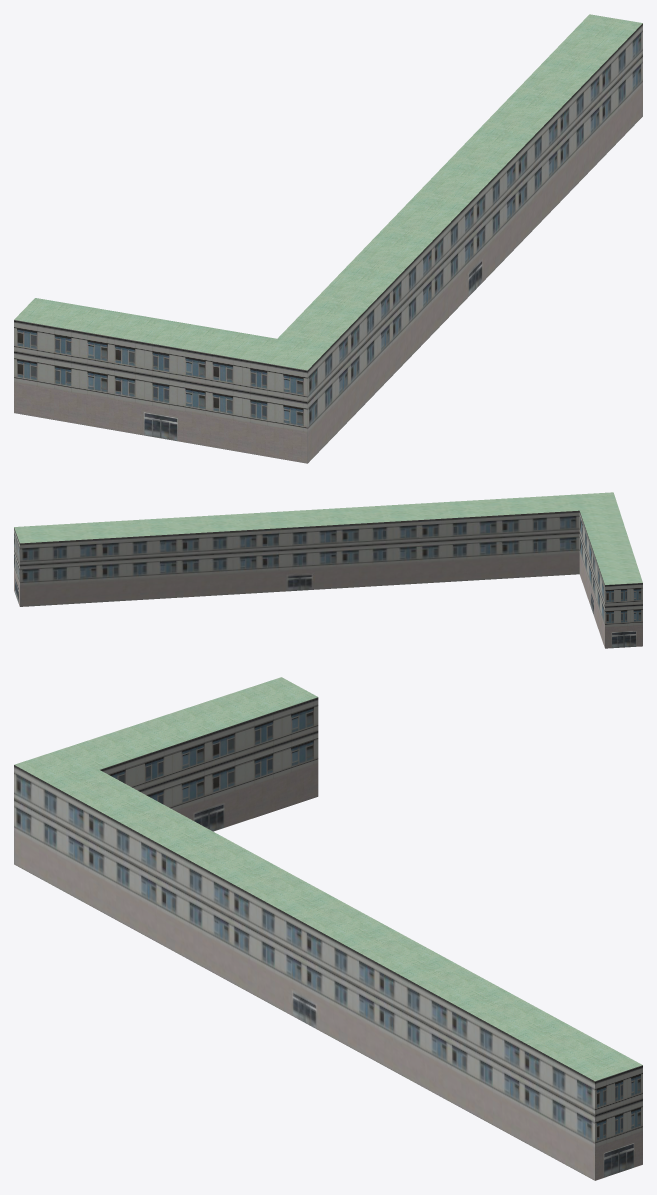
3 renders of one model, top to bottom at view 1: azimuth 30°, elevation 25°; view 2: azimuth 150°, elevation 25°; view 3: azimuth 270°, elevation 25°, orthographic. The views are drawn at different scales.
Visible parts, largest first — view 1: BuildingMaster_2001193661944463245600000000_0, BuildingMaster_2001193661944463245600000000_1; view 2: BuildingMaster_2001193661944463245600000000_0, BuildingMaster_2001193661944463245600000000_1; view 3: BuildingMaster_2001193661944463245600000000_0, BuildingMaster_2001193661944463245600000000_1.
Boxes of the visible parts, box(x1,y1,x2,y2) form: BuildingMaster_2001193661944463245600000000_0: box(14, 23, 642, 463); BuildingMaster_2001193661944463245600000000_1: box(14, 14, 642, 370); BuildingMaster_2001193661944463245600000000_0: box(14, 510, 642, 648); BuildingMaster_2001193661944463245600000000_1: box(14, 492, 642, 584); BuildingMaster_2001193661944463245600000000_0: box(14, 697, 642, 1180); BuildingMaster_2001193661944463245600000000_1: box(14, 677, 642, 1081).
Size of the model in its own units: 91.41 by 10.5 by 60.11.
2 materials, 2 textured.
